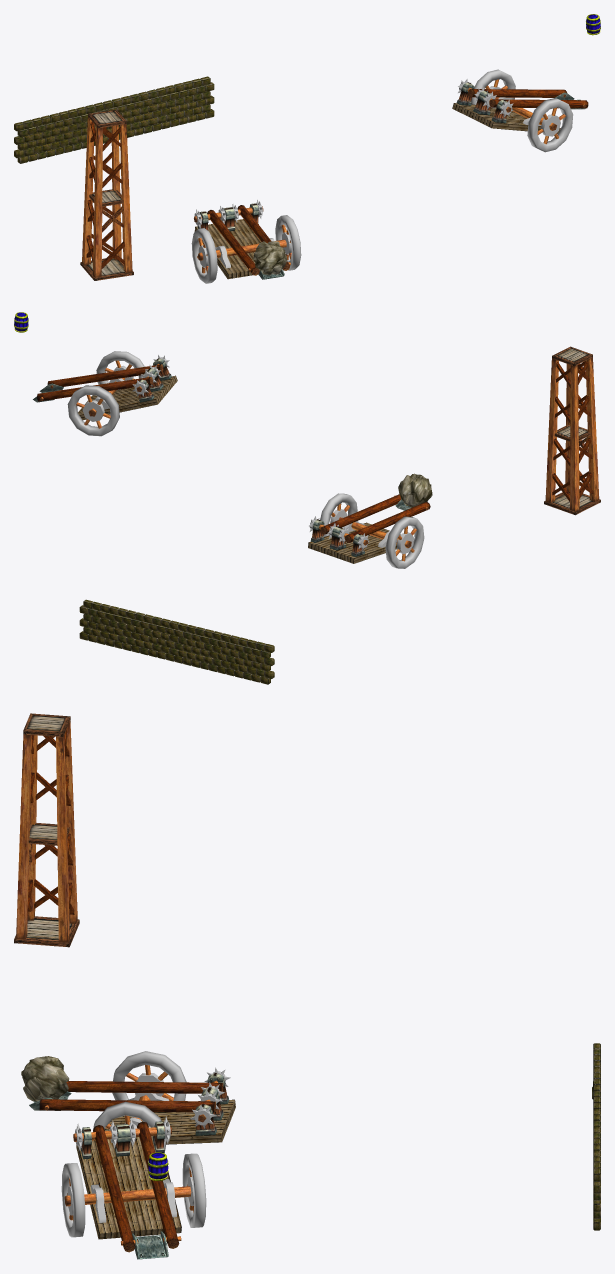
Rendered from CONTRAPTION5.obj.
3 views of the same model, one above another, from view 1: azimuth 30°, elevation 25°; view 2: azimuth 150°, elevation 25°; view 3: azimuth 270°, elevation 25° (orthographic). The views are drawn at different scales.
Visible parts, largest first — view 1: con3tower03, 1_cata_wheels02, 1_cata_wheels01, con1_catabase01, con1_cataarm02, con1_catabase02, con1_cataarm01, Mesh01; view 2: con3tower03, 1_cata_wheels02, 1_cata_wheels01, con1_cataarm02, con1_catabase01, con1_cataarm01, con1_catabase02, Mesh01; view 3: con3tower03, con1_catabase02, con1_cataarm02, con1_cataarm01, 1_cata_wheels02, 1_cata_wheels01, con1_catabase01, Mesh01.
Boxes of the visible parts, left/top/right/bottom form: con3tower03: left=80, top=109, right=133, bottom=280; 1_cata_wheels02: left=471, top=69, right=573, bottom=152; 1_cata_wheels01: left=191, top=215, right=301, bottom=283; con1_catabase01: left=194, top=203, right=283, bottom=279; con1_cataarm02: left=458, top=79, right=588, bottom=117; con1_catabase02: left=452, top=82, right=560, bottom=133; con1_cataarm01: left=194, top=199, right=290, bottom=279; Mesh01: left=253, top=241, right=287, bottom=275; con3tower03: left=544, top=346, right=600, bottom=515; 1_cata_wheels02: left=67, top=351, right=144, bottom=436; 1_cata_wheels01: left=320, top=493, right=424, bottom=568; con1_cataarm02: left=33, top=355, right=169, bottom=402; con1_catabase01: left=308, top=519, right=400, bottom=563; con1_cataarm01: left=309, top=494, right=430, bottom=550; con1_catabase02: left=78, top=358, right=177, bottom=420; Mesh01: left=398, top=473, right=432, bottom=507; con3tower03: left=14, top=713, right=79, bottom=947; con1_catabase02: left=76, top=1121, right=181, bottom=1239; con1_cataarm02: left=73, top=1116, right=181, bottom=1259; con1_cataarm01: left=29, top=1067, right=230, bottom=1128; 1_cata_wheels02: left=61, top=1153, right=206, bottom=1237; 1_cata_wheels01: left=93, top=1051, right=186, bottom=1153; con1_catabase01: left=105, top=1073, right=235, bottom=1144; Mesh01: left=21, top=1056, right=69, bottom=1101.
Size of the model in its own units: 2745 by 1058 by 1830.
